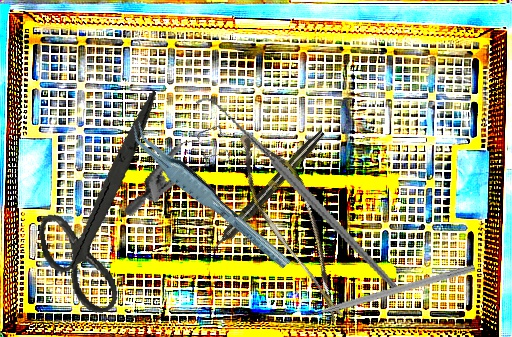Chopper: (294, 254, 476, 323)
Handpiece: (204, 127, 328, 258)
Hook Surgical: (195, 62, 402, 330)
Iris Scissors: (18, 90, 192, 321)
Micro Scissor: (208, 123, 386, 326)
Speculum: (123, 104, 241, 243)
Tissue Forceps: (125, 106, 293, 287)
